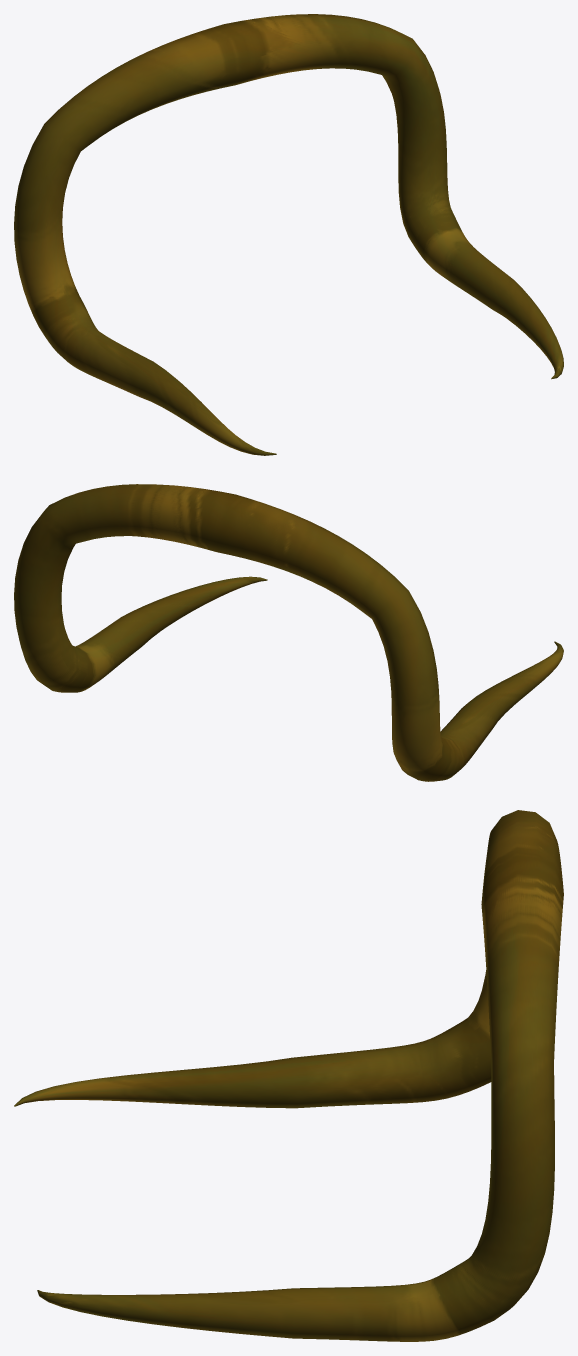
File: VineEntrance.fbx
The picture shows the model from 3 angles, top to bottom: view 1: azimuth 30°, elevation 25°; view 2: azimuth 150°, elevation 25°; view 3: azimuth 270°, elevation 25°; orthographic projection. The views are drawn at different scales.
Visible parts, largest first — view 1: VineEntrance; view 2: VineEntrance; view 3: VineEntrance.
Part boxes in pixels (x1,y1,x2,y2): VineEntrance: (14, 14, 563, 455); VineEntrance: (14, 484, 563, 781); VineEntrance: (14, 810, 563, 1341).
Size of the model in its own units: 72 by 60.41 by 43.29.
